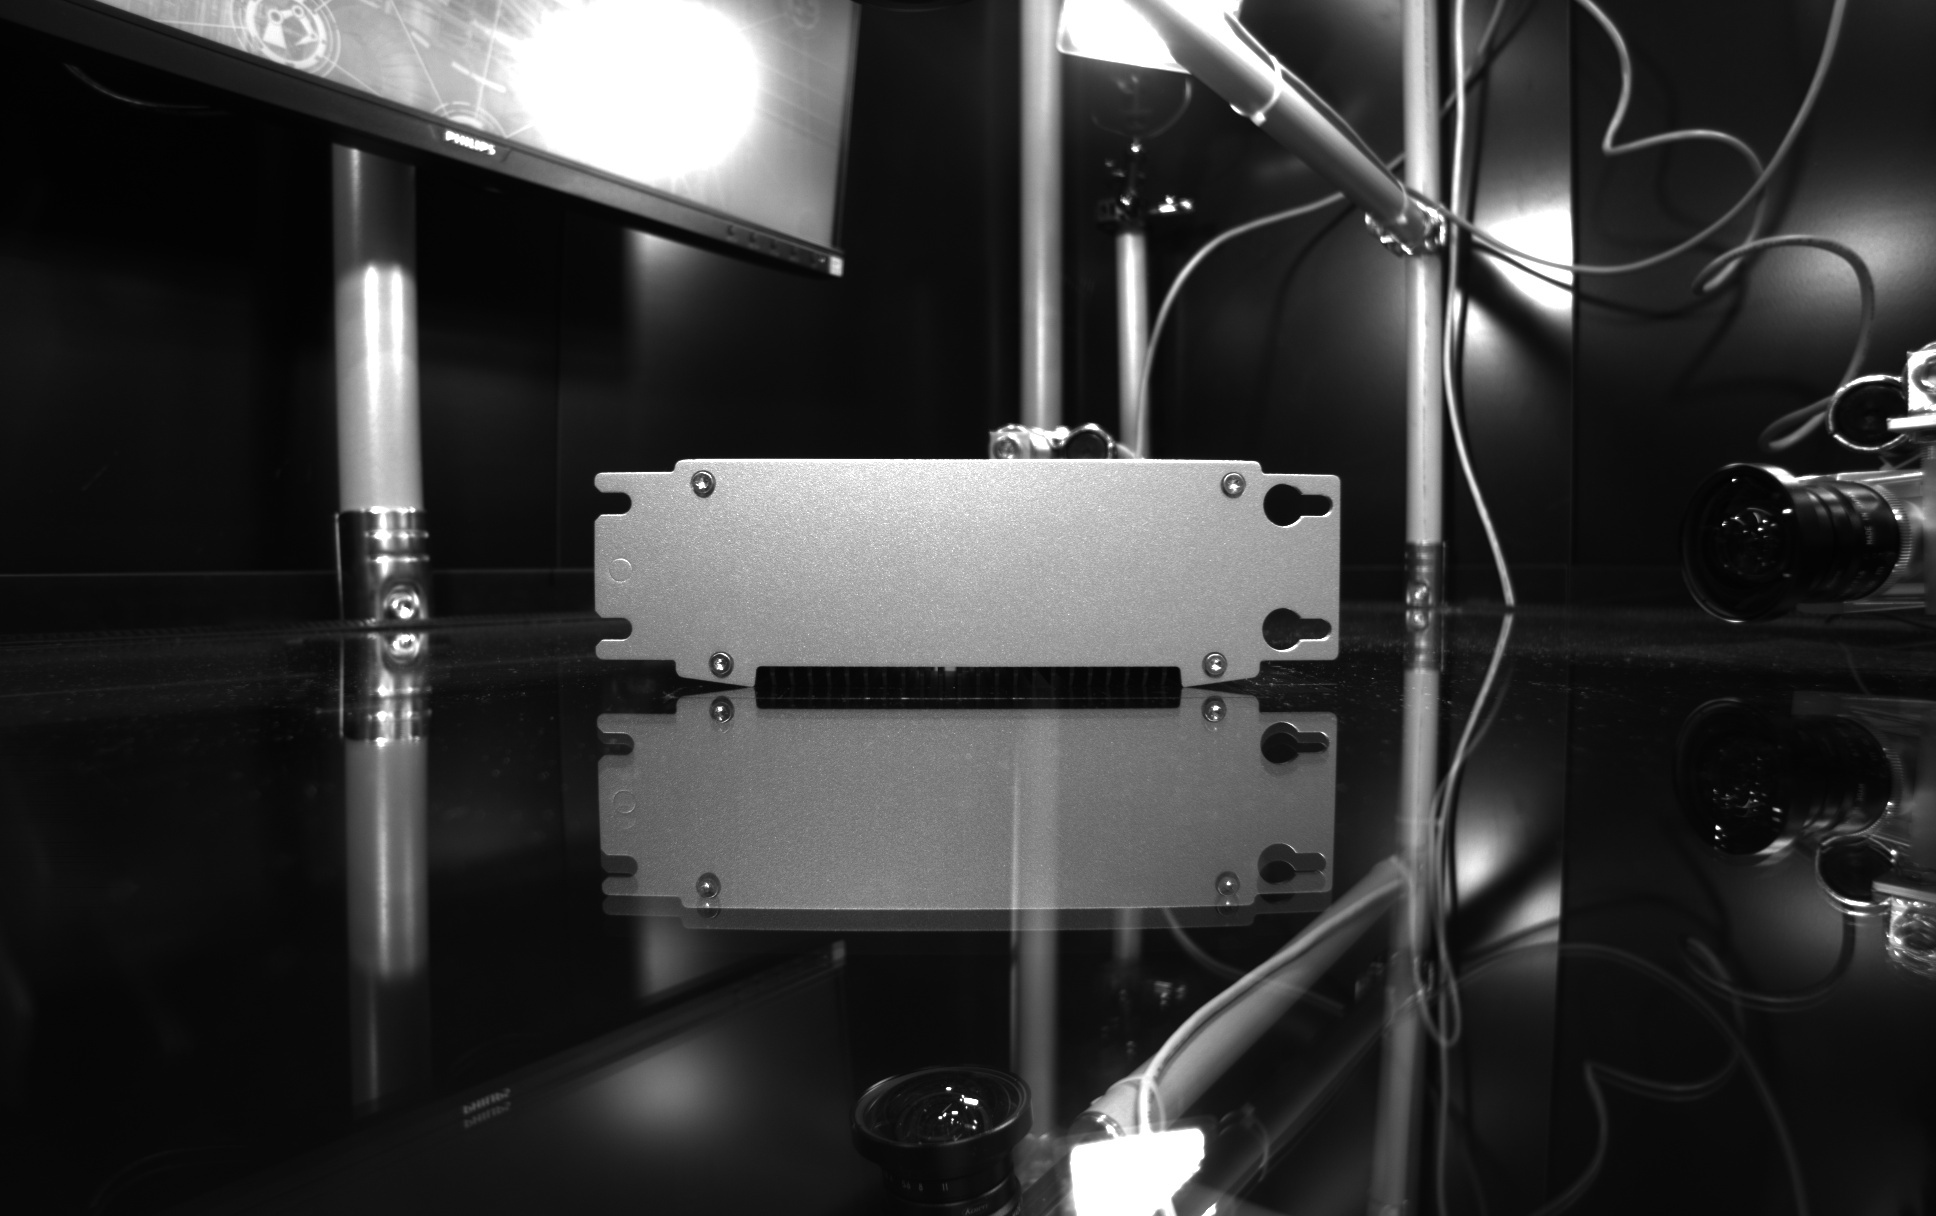CamBack: (567, 431, 1364, 686)
Schraube_gespiegelt: (688, 864, 728, 926), (1191, 691, 1234, 747), (1208, 864, 1248, 922), (702, 691, 741, 747)
Schraube_halb: (1194, 642, 1234, 685), (700, 644, 740, 682), (1215, 468, 1251, 504), (686, 467, 721, 502)
